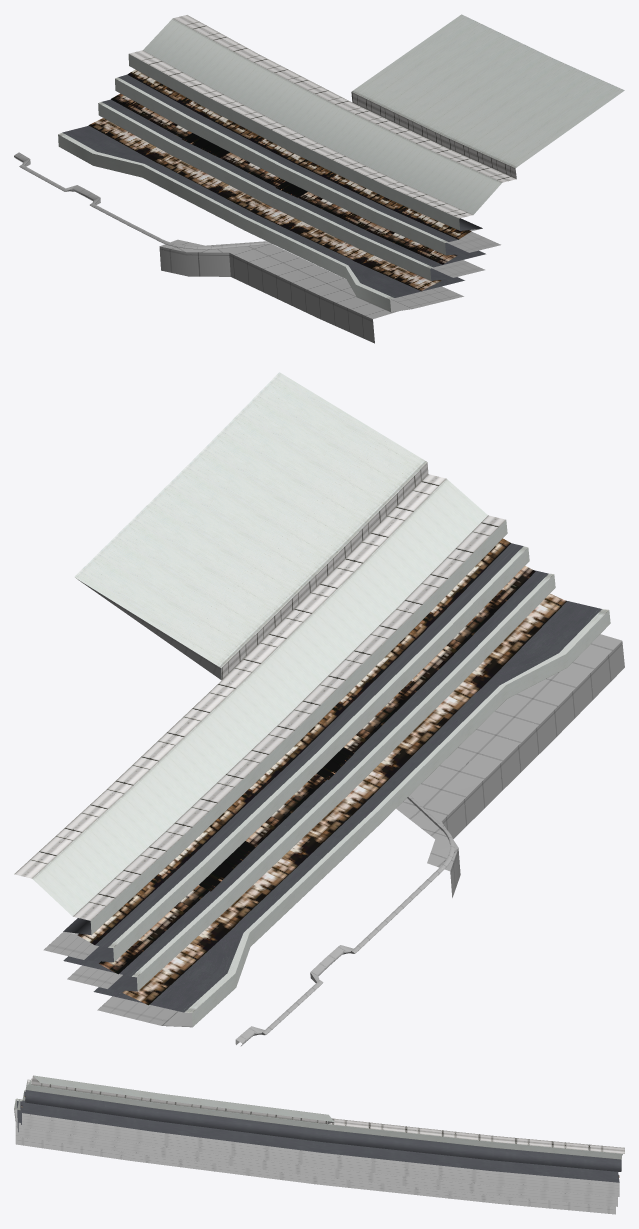
Rendered from STA20_FAKEFacade01.FBX.
The picture shows the model from 3 angles, top to bottom: view 1: azimuth 30°, elevation 25°; view 2: azimuth 150°, elevation 25°; view 3: azimuth 270°, elevation 25°; orthographic projection. The views are drawn at different scales.
Visible parts, largest first — view 1: STA20_FAKEFacade01; view 2: STA20_FAKEFacade01; view 3: STA20_FAKEFacade01.
Part boxes in pixels (left/top/right/bottom): STA20_FAKEFacade01: left=14, top=14, right=624, bottom=343; STA20_FAKEFacade01: left=14, top=372, right=624, bottom=1045; STA20_FAKEFacade01: left=14, top=1075, right=624, bottom=1214.
Size of the model in its own units: 127 by 93.42 by 248.
